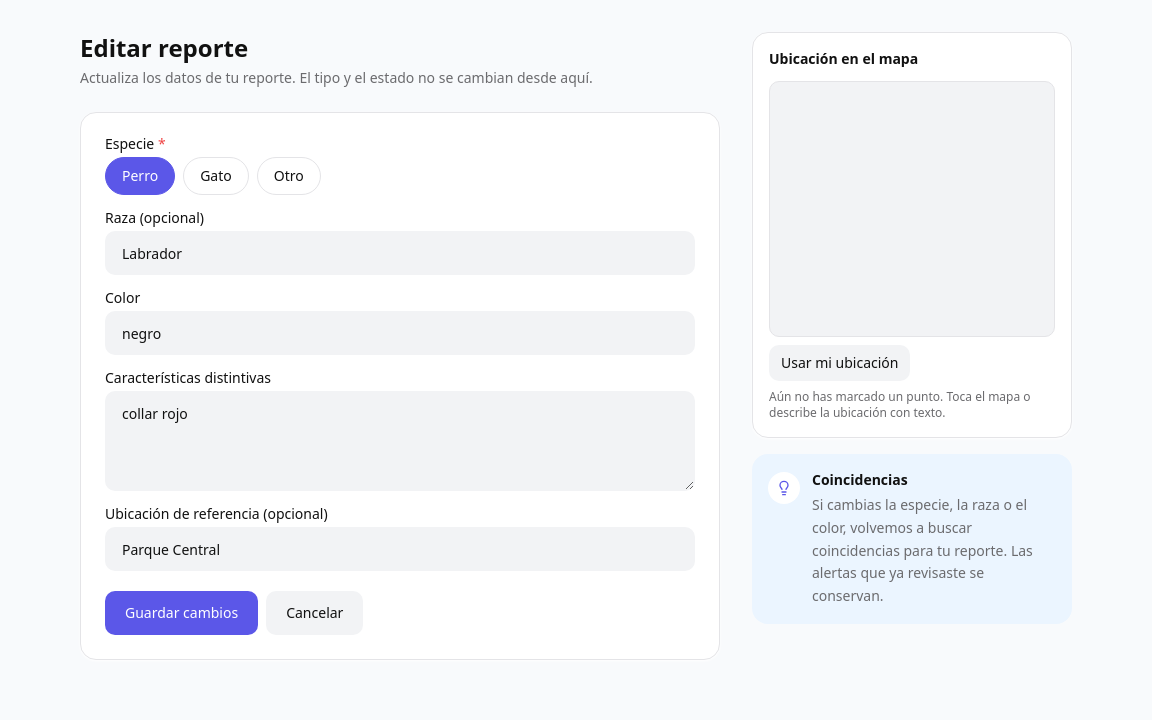
Test case: EditarReporte (HU17) › un 403 muestra un mensaje claro y no navega
Expected: the form with test id "editar-form" is shown, [80,112,720,660]
Replace the text in the field labelled "Color" with "gris" at (400,333), box [105,311,695,355]
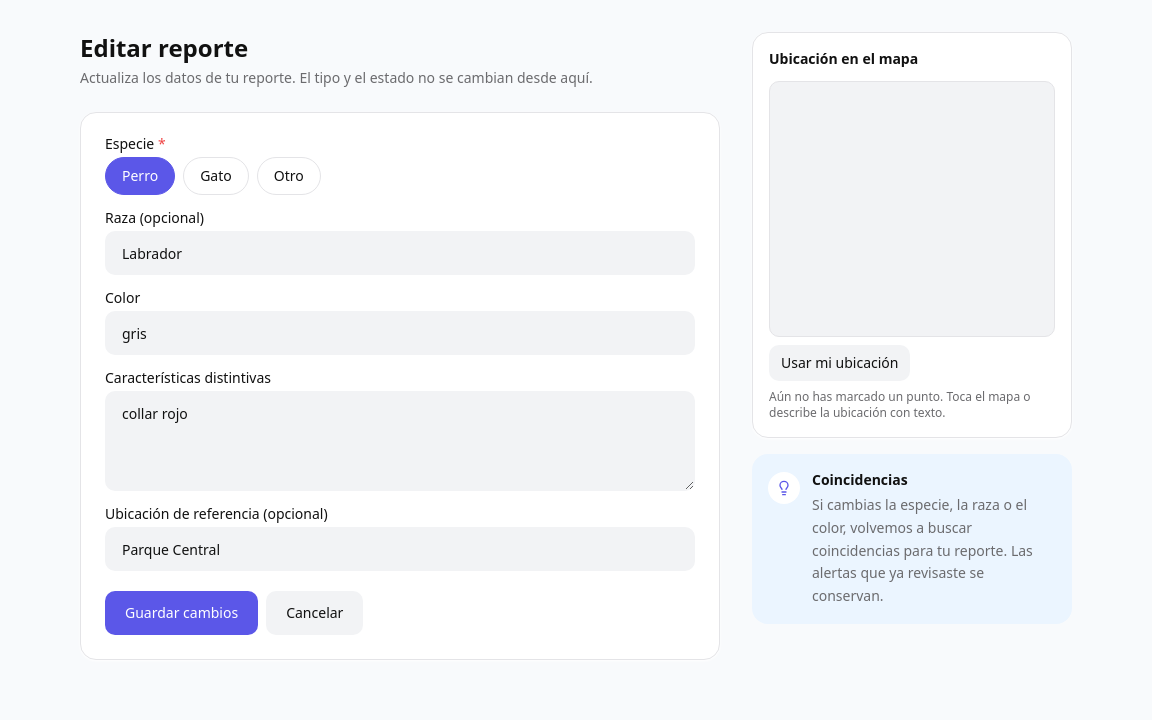
Click the button "Guardar cambios".
click(182, 613)  # box [105,591,258,635]
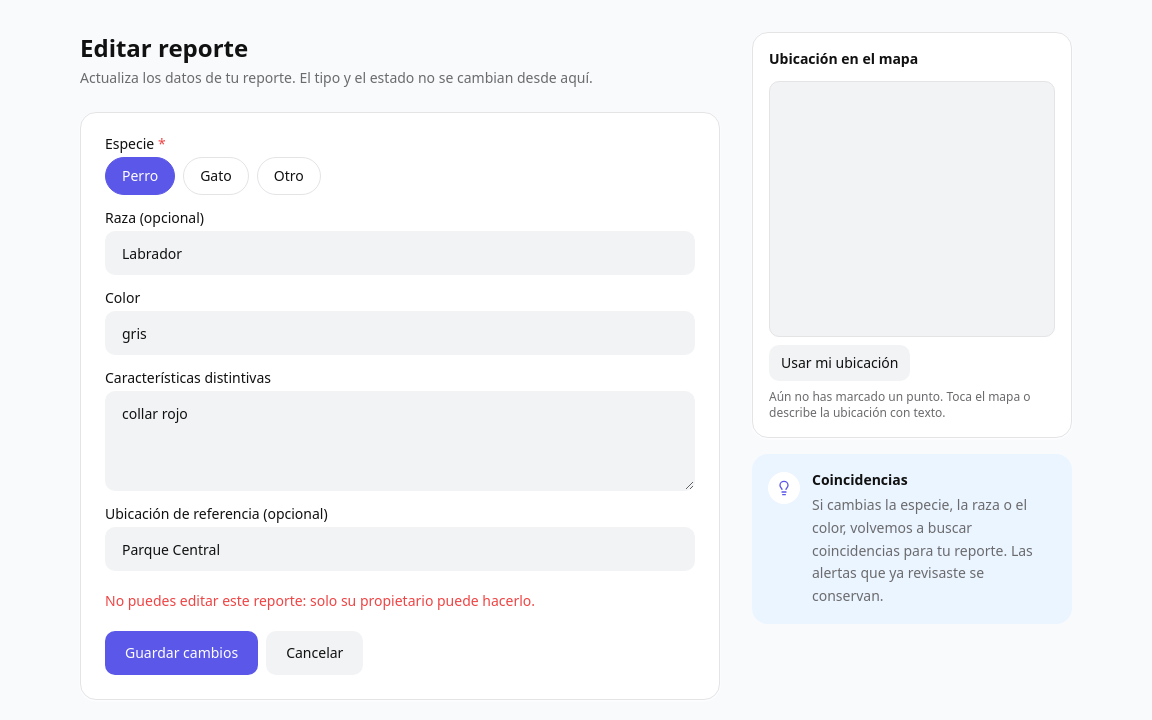
Expected: the text "No puedes editar este reporte: solo su propietario puede hacerlo." is shown, [105,591,535,610]
